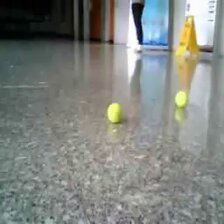tennis: (106, 102, 123, 123), (174, 91, 187, 108)
